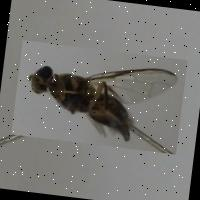Oriental-fruit-fly: (12, 40, 188, 155)
